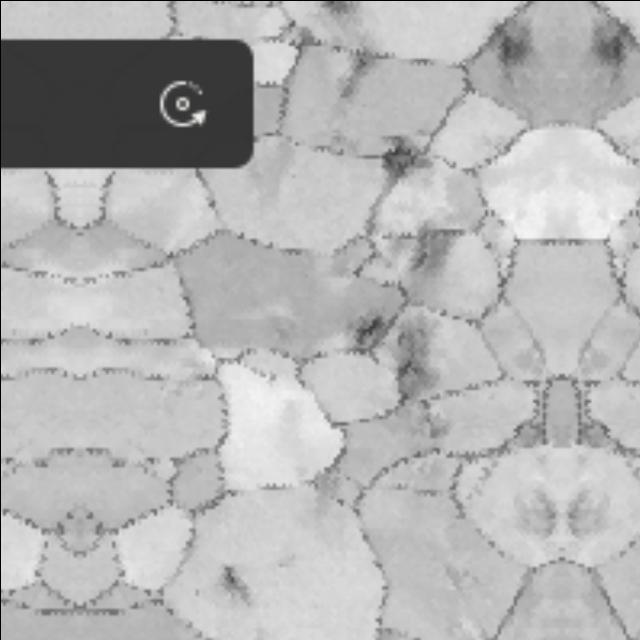good_void: (386, 318, 444, 440), (560, 469, 630, 552), (491, 469, 560, 552), (399, 206, 460, 290), (373, 123, 444, 191), (321, 43, 385, 107), (211, 545, 256, 619), (485, 18, 540, 77), (581, 18, 636, 77), (344, 295, 387, 354), (316, 0, 367, 37), (295, 21, 320, 44)
